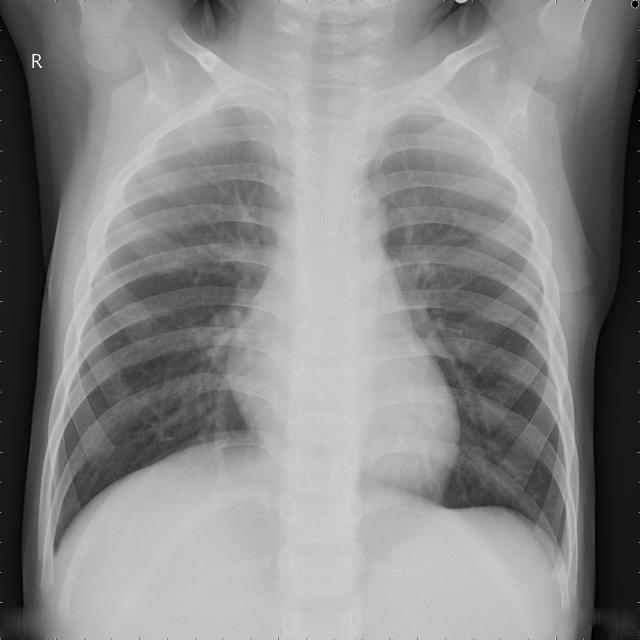no-pneumonia: (46, 107, 290, 555), (370, 113, 579, 563)
